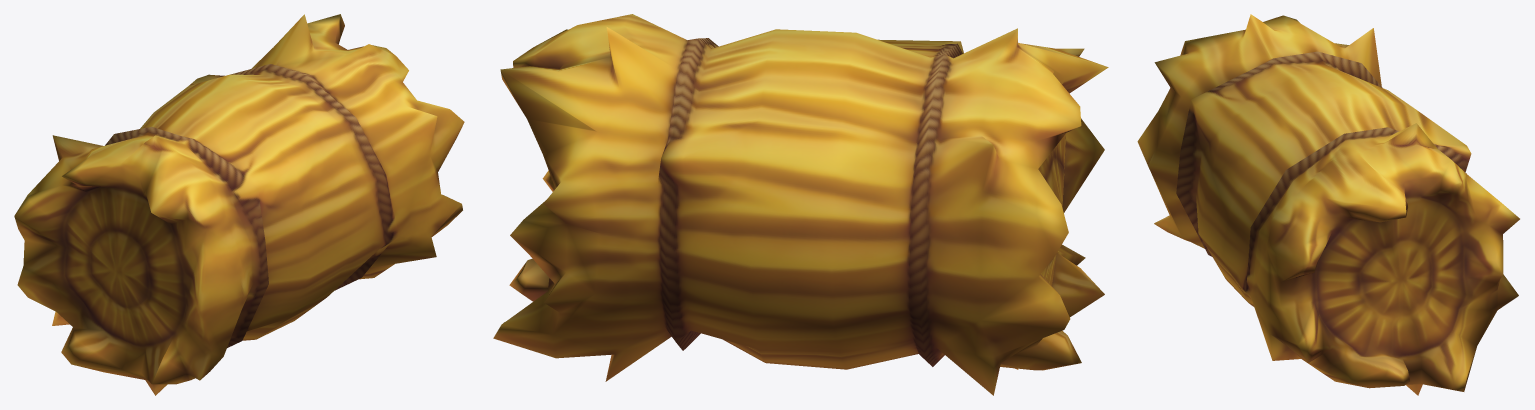
Rendered from tawara4.fbx.
3 renders of one model, left to right at view 1: azimuth 30°, elevation 25°; view 2: azimuth 150°, elevation 25°; view 3: azimuth 270°, elevation 25°, orthographic. The views are drawn at different scales.
Visible parts, largest first — view 1: HayRoll_Straw01; view 2: HayRoll_Straw01; view 3: HayRoll_Straw01.
Part boxes in pixels (x1=…): HayRoll_Straw01: x1=14, y1=14, x2=464, y2=395; HayRoll_Straw01: x1=493, y1=14, x2=1108, y2=395; HayRoll_Straw01: x1=1137, y1=14, x2=1519, y2=395.
Size of the model in its own units: 55.63 by 33.76 by 42.93.
Materials: 1 (1 with a texture image).
